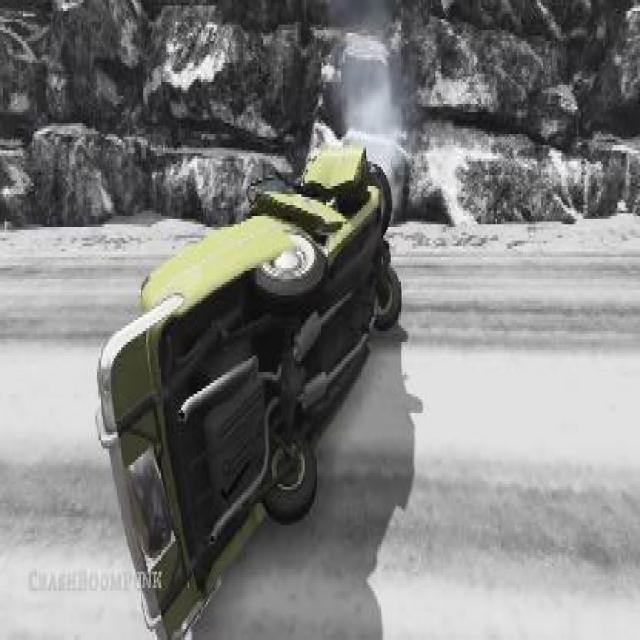accident: (88, 118, 408, 637)
